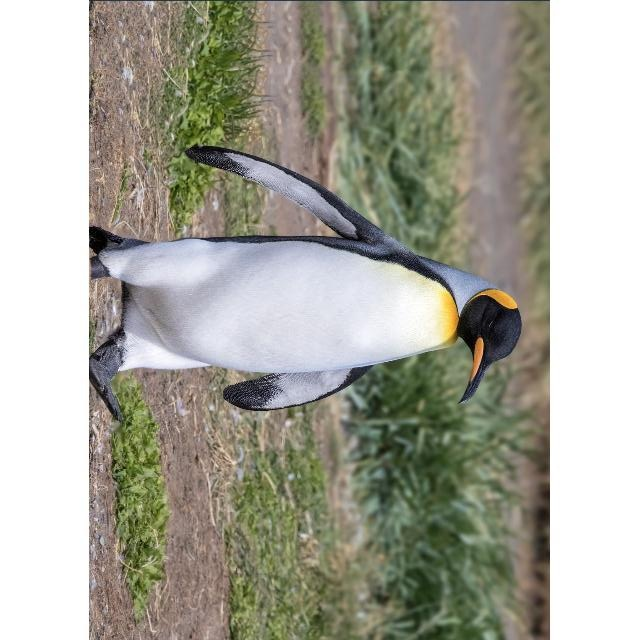penguin: (91, 144, 524, 421)
